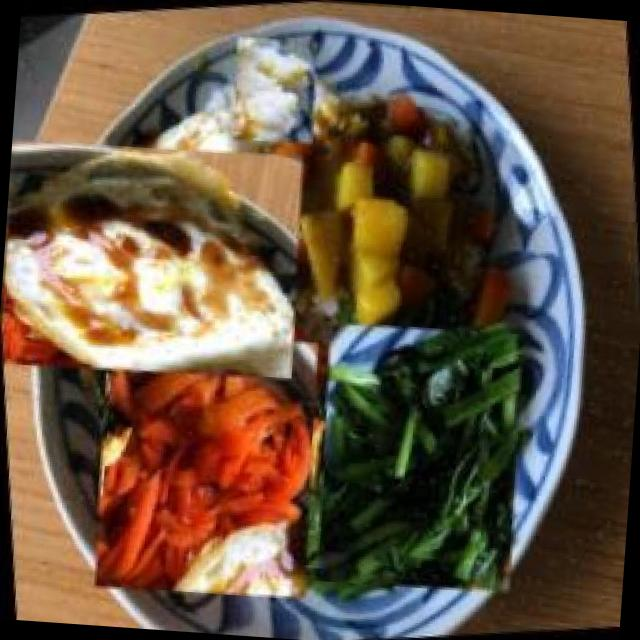carrot_eggs: (59, 301, 350, 624)
curry: (233, 59, 505, 354)
fried_eggs: (0, 86, 315, 426)
rice: (212, 26, 332, 148)
water_spinach: (282, 296, 554, 616)
